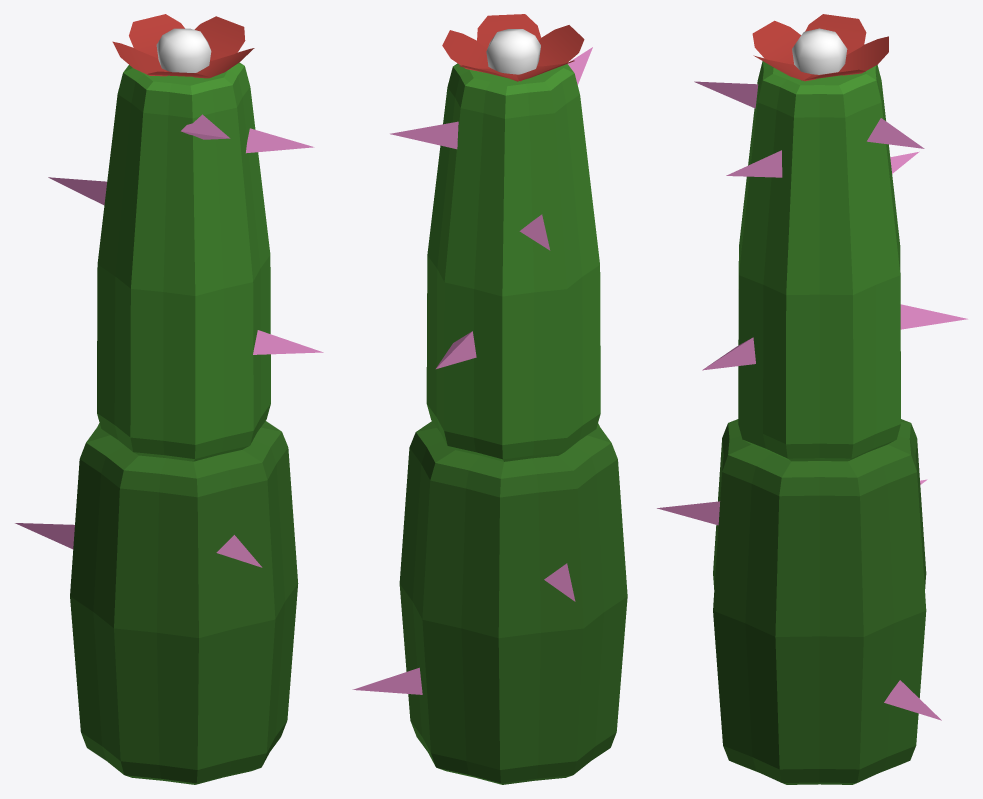
The model's file is Cactus_10_B.fbx.
3 renders of one model, left to right at view 1: azimuth 30°, elevation 25°; view 2: azimuth 150°, elevation 25°; view 3: azimuth 270°, elevation 25°, orthographic.
Parts seen in each view (by area): view 1: Cactus_10_B; view 2: Cactus_10_B; view 3: Cactus_10_B.
Part boxes in pixels (x1=…): Cactus_10_B: x1=15, y1=14, x2=323, y2=784; Cactus_10_B: x1=352, y1=14, x2=627, y2=784; Cactus_10_B: x1=657, y1=14, x2=967, y2=784.
Size of the model in its own units: 53.04 by 168 by 66.31.
